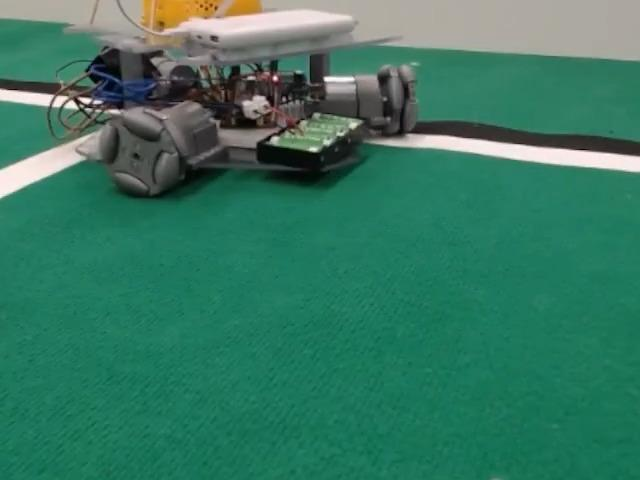Robot: (47, 0, 417, 196)
